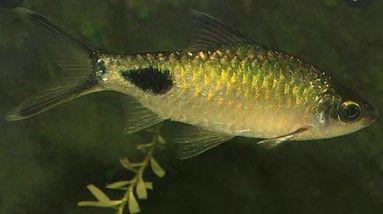Black Spotted Barb: (7, 3, 378, 160)
